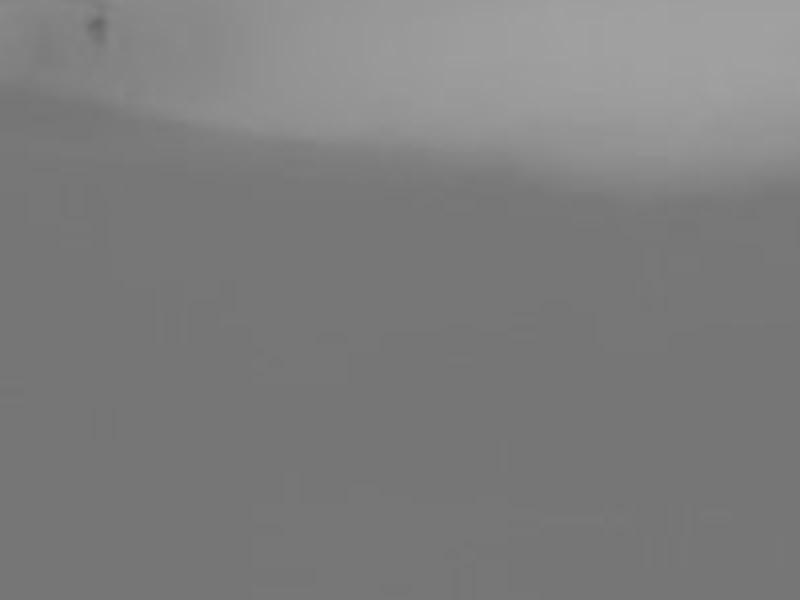defect: (87, 14, 108, 41)
